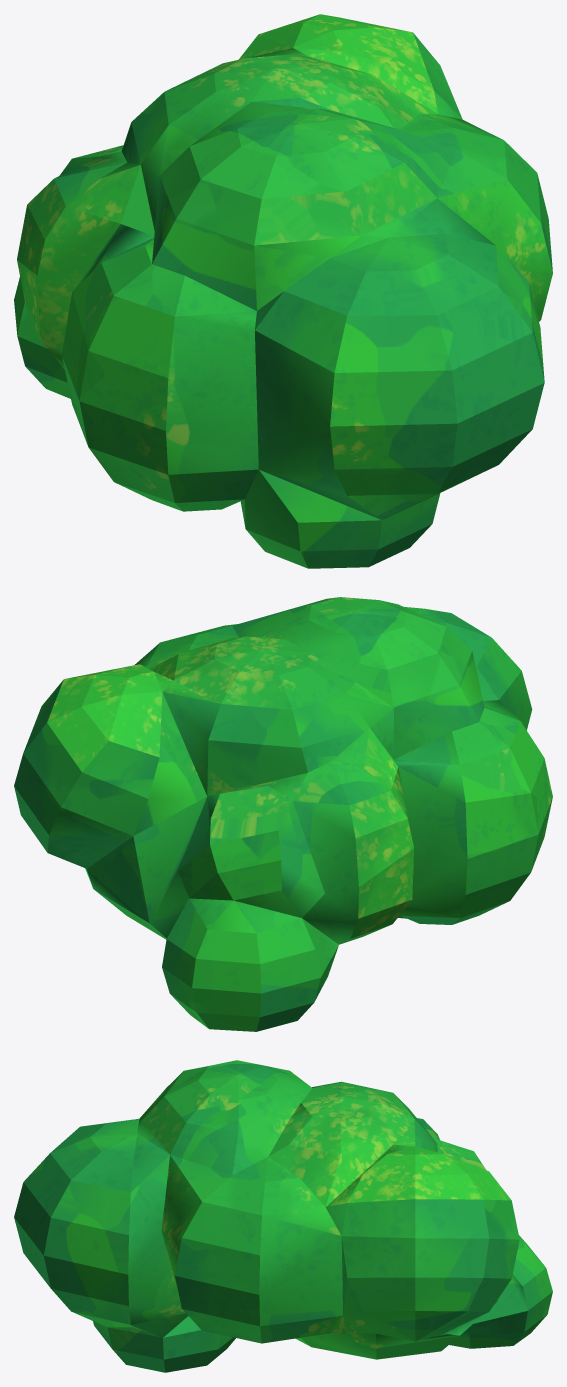
The model's file is treeBleaves.fbx.
3 renders of one model, top to bottom at view 1: azimuth 30°, elevation 25°; view 2: azimuth 150°, elevation 25°; view 3: azimuth 270°, elevation 25°, orthographic. The views are drawn at different scales.
Visible parts, largest first — view 1: pSphere48; view 2: pSphere48; view 3: pSphere48.
Boxes of the visible parts, <box> form: pSphere48: <box>14,14,552,568</box>; pSphere48: <box>14,597,552,1031</box>; pSphere48: <box>14,1060,552,1372</box>.
Bounding box in the file's own units: 19.73 × 15.24 × 25.23.
1 material, 1 textured.
